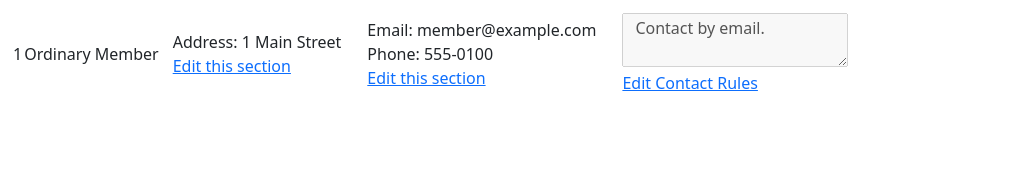
disables Update Contact while a save is pending
Click the text "Edit this section" below "Phone:".
click(426, 78)  # box x1=367 y1=67 x2=486 y2=89
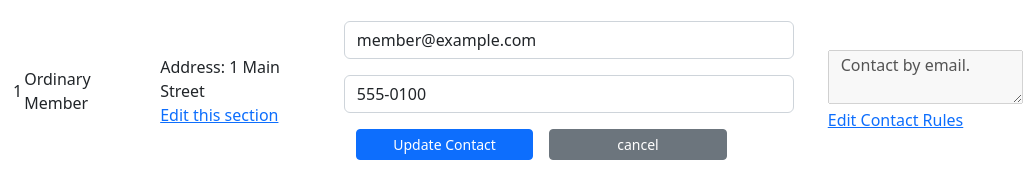
Click the button "Update Contact".
click(445, 144)  # box x1=356 y1=129 x2=533 y2=160
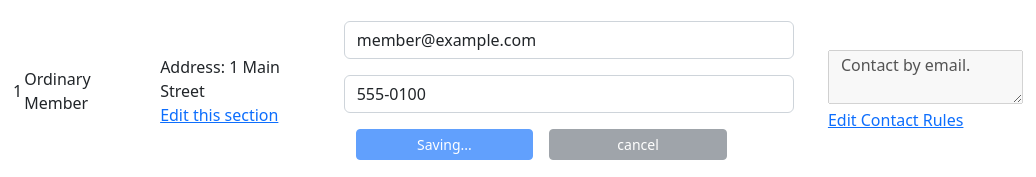
Check: the button named "Update Contact" is disabled, box x1=356 y1=129 x2=533 y2=160
Check: the button named "Update Contact" reads "Saving...", box x1=356 y1=129 x2=533 y2=160
